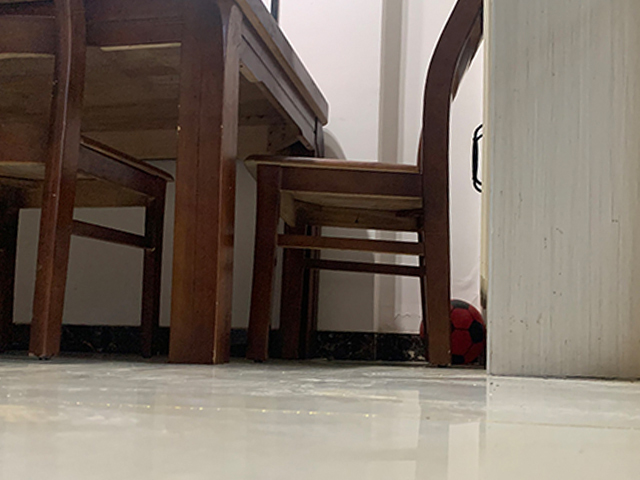stool: (245, 1, 485, 367), (1, 1, 173, 361)
table: (1, 1, 325, 363)
